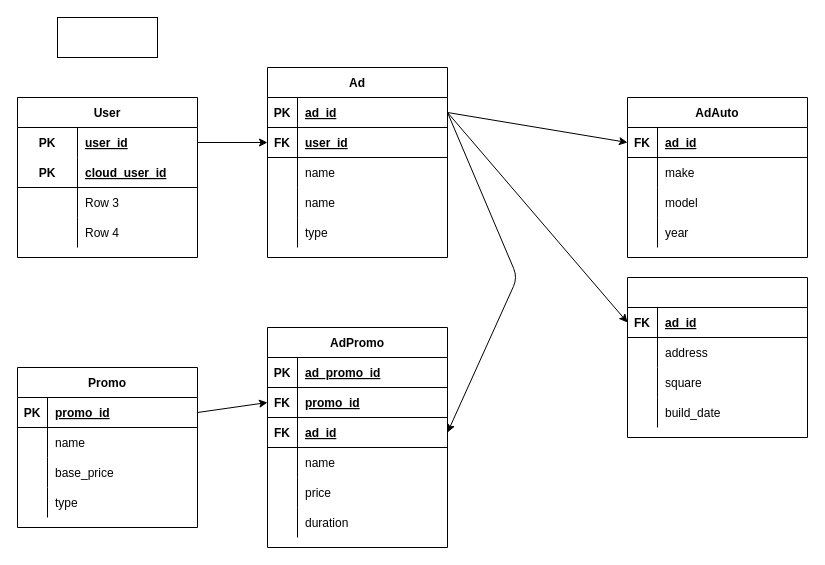
The diagram is 825 pixels wide and 565 high, and some of its shapes have lost their labels. The shapes that lost their labels are listed below. From the top down, each one's box as (x1, y1, x2, y2) in pixels, then its label:
(56, 16, 158, 58): CloudUser
(626, 276, 808, 438): AdHouse
